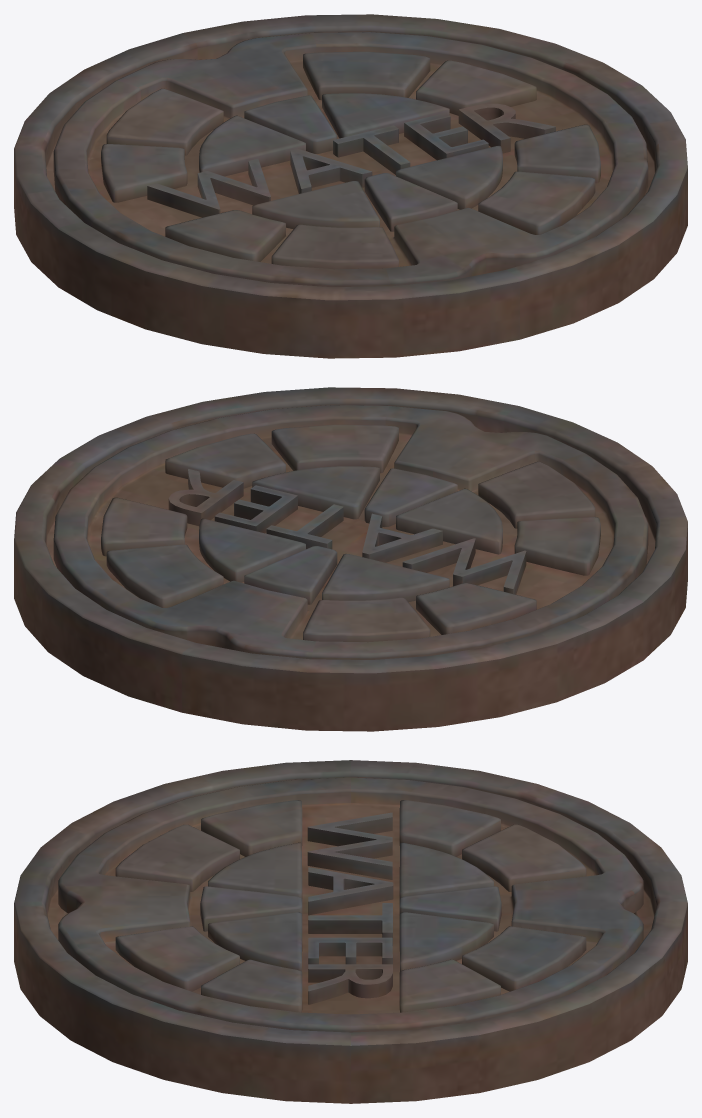
Rendered from manhole_cover.glb.
The picture shows the model from 3 angles, top to bottom: view 1: azimuth 30°, elevation 25°; view 2: azimuth 150°, elevation 25°; view 3: azimuth 270°, elevation 25°; orthographic projection.
Visible parts, largest first — view 1: water_manhole_cover, water_manhole_cover_frame; view 2: water_manhole_cover, water_manhole_cover_frame; view 3: water_manhole_cover, water_manhole_cover_frame.
Part boxes in pixels (x1,y1,x2,y2): water_manhole_cover: (53,32,648,286); water_manhole_cover_frame: (14,14,687,358); water_manhole_cover: (53,405,648,659); water_manhole_cover_frame: (14,387,687,731); water_manhole_cover: (58,777,643,1032); water_manhole_cover_frame: (14,760,687,1103).
Bounding box in the file's own units: 0.6908 × 0.0676 × 0.6908.
Materials: 1 (1 with a texture image).
